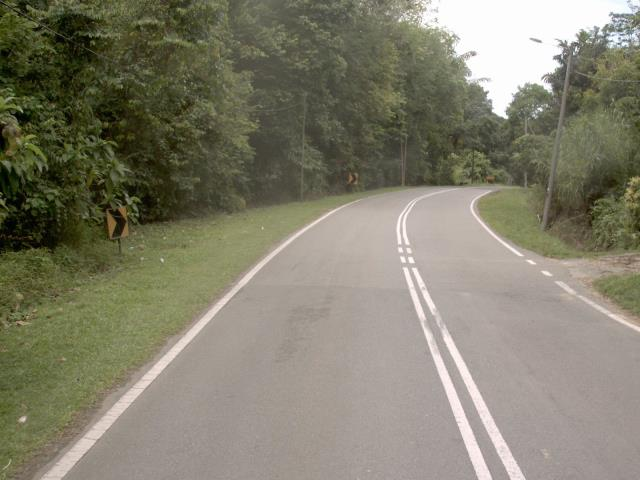traffic_sign: (99, 195, 136, 246)
